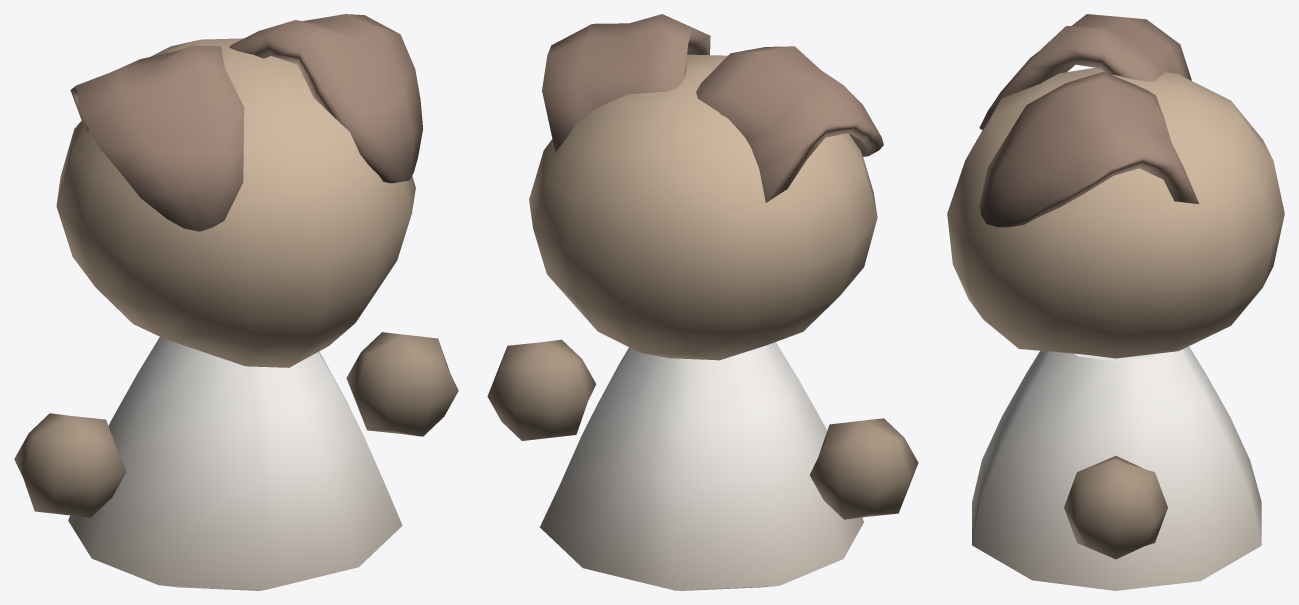
The model's file is dog.fbx.
The picture shows the model from 3 angles, left to right: view 1: azimuth 30°, elevation 25°; view 2: azimuth 150°, elevation 25°; view 3: azimuth 270°, elevation 25°; orthographic projection. The views are drawn at different scales.
Parts seen in each view (by area): view 1: Dog; view 2: Dog; view 3: Dog.
Part boxes in pixels (x1,y1,x2,y2): Dog: (14, 14, 458, 590); Dog: (487, 14, 918, 590); Dog: (947, 14, 1284, 590).
Size of the model in its own units: 66.98 by 79.68 by 48.3.
